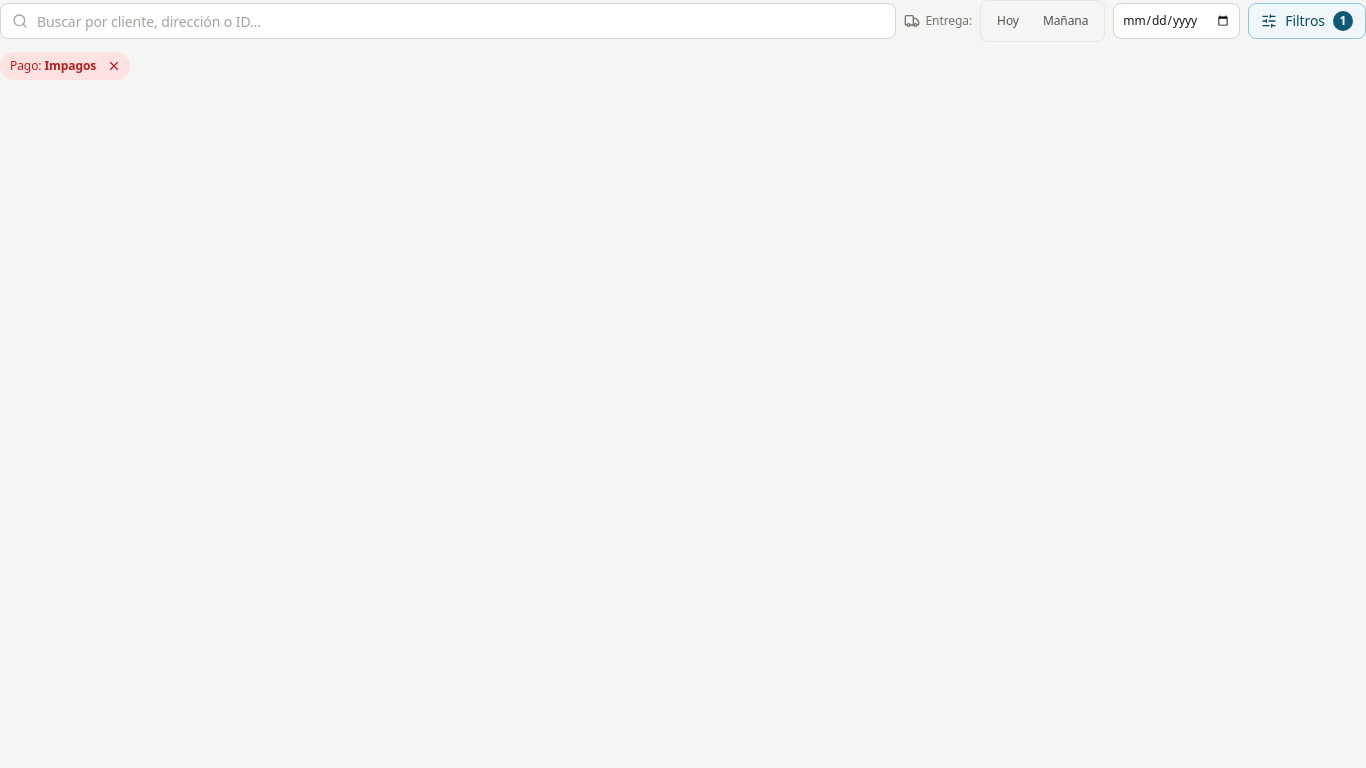
Test: PedidoFilters — el pago "impago" del tile (#715) › con estadoPago impago el select de pago lo muestra elegido
The width and height of the screenshot is (1366, 768).
Click the button with aria-label "Abrir filtros avanzados" at (1307, 21), box [1248,3,1365,39]
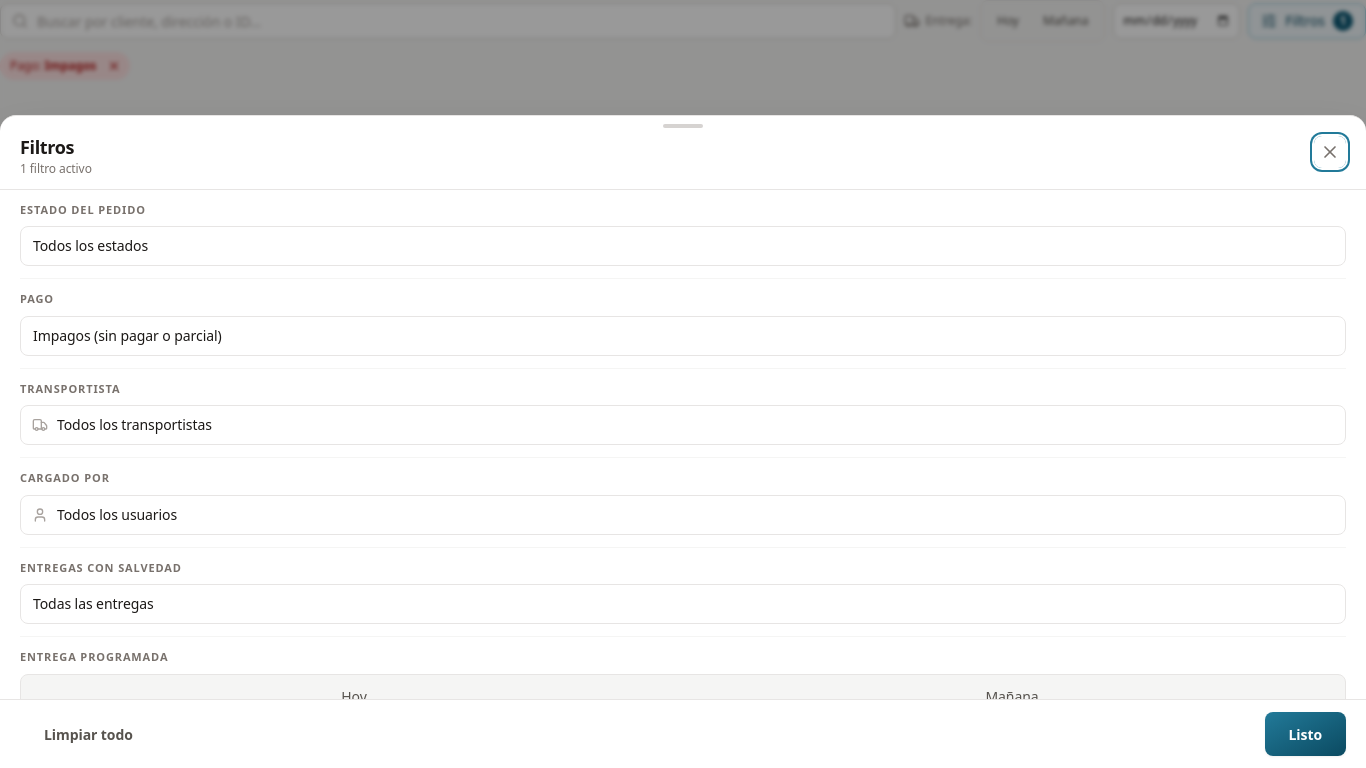
expect the dropdown named "filtrar por estado de pago" shows "Impagos (sin pagar o parcial)": met, box [20,316,1346,356]
